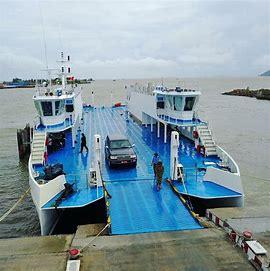Ship: (18, 51, 245, 236)
